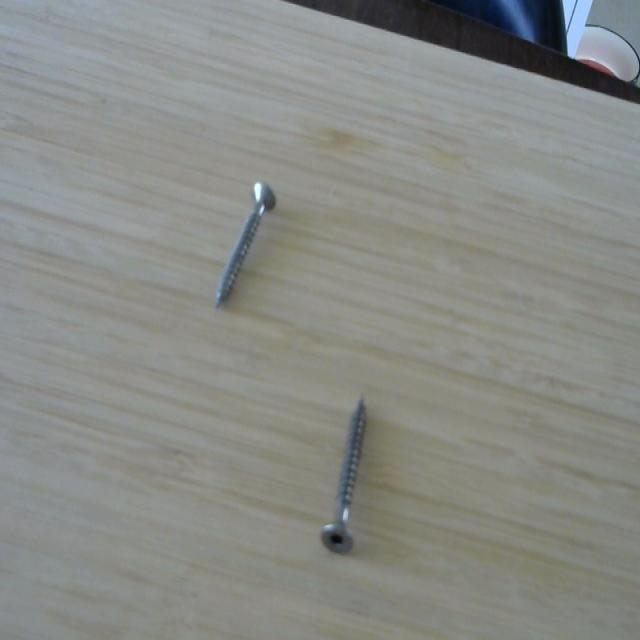Black screw: (209, 172, 281, 315), (318, 381, 374, 562)
